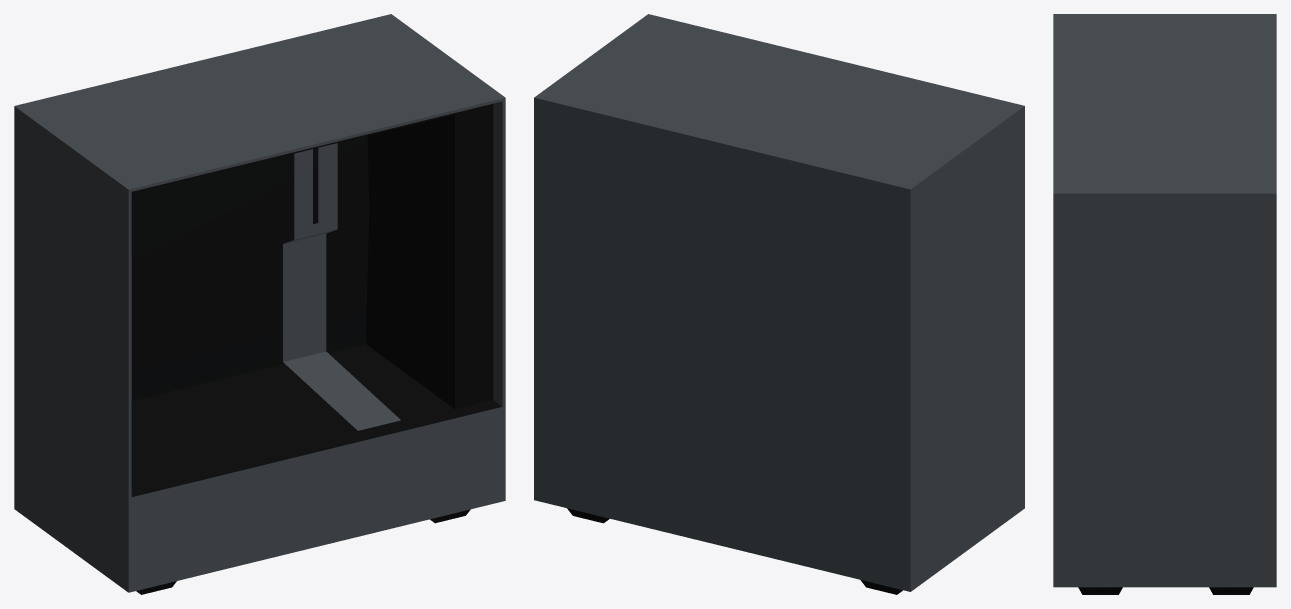
Rendered from sketchfab-nzxt-h500.glb.
3 views of the same model, side by side, from view 1: azimuth 30°, elevation 25°; view 2: azimuth 150°, elevation 25°; view 3: azimuth 270°, elevation 25° (orthographic). The views are drawn at different scales.
Visible parts, largest first — view 1: caseObject; view 2: caseObject; view 3: caseObject.
Part boxes in pixels (x1,y1,x2,y2): caseObject: [14, 14, 505, 594]; caseObject: [534, 14, 1024, 594]; caseObject: [1053, 14, 1276, 594].
Size of the model in its own units: 8.7 by 9.32 by 4.57.
1 material, 1 textured.
